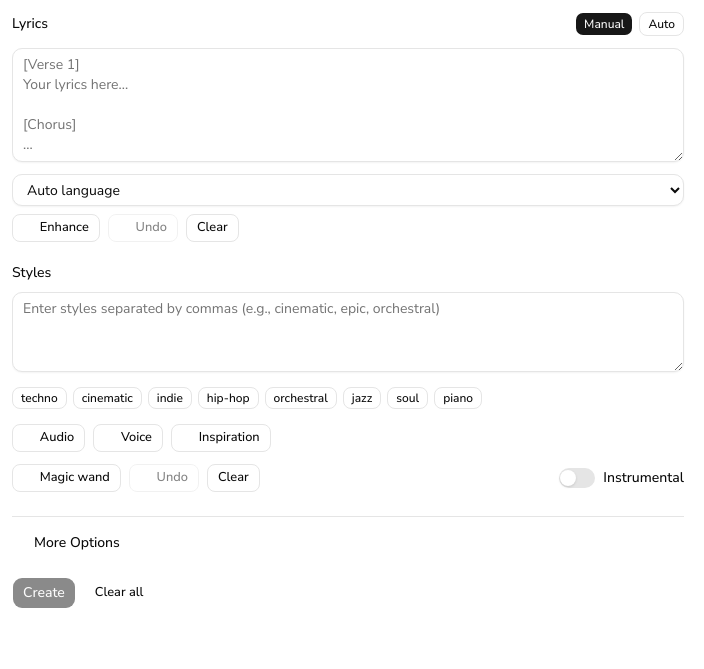
Test: AdvancedCreationForm › submits a valid form, polls, and surfaces the completed clips
Type "orchestral" into the text box labelled "Styles" at (348, 332), box [12,292,684,372]
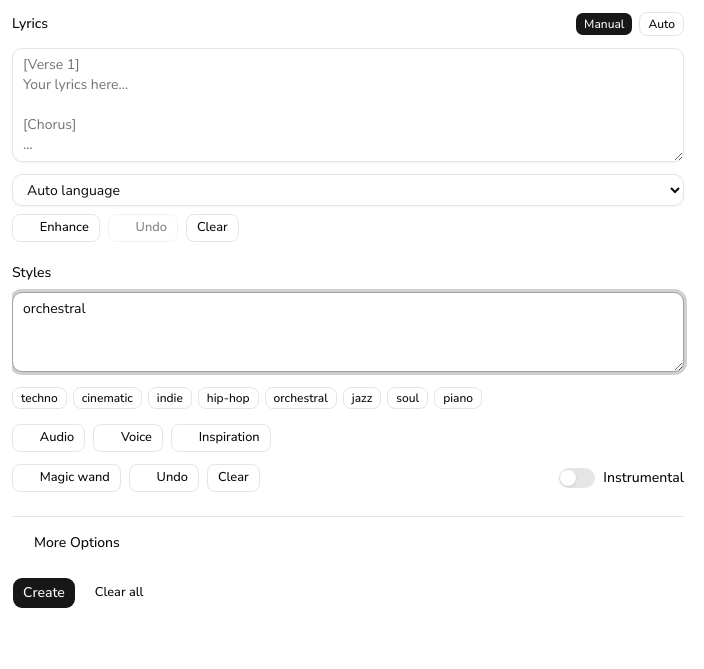
Click the button "Create" at (44, 593), box [12,577,76,609]
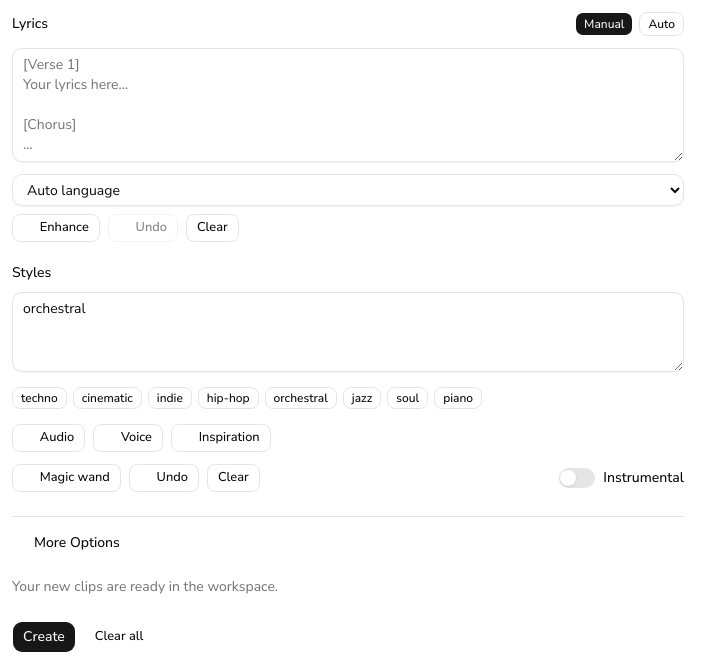
Expected: the text "Your new clips are ready in the workspace." is shown, [12,577,278,596]
